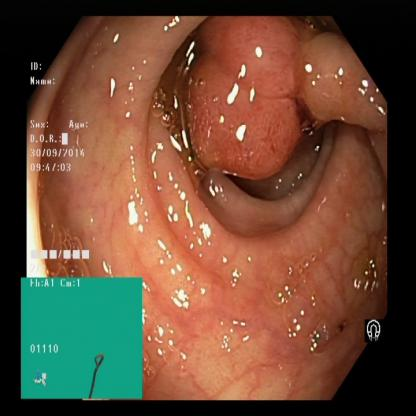Labels: (20, 275, 143, 399), (28, 60, 96, 278), (362, 315, 386, 350)
Polyps: (197, 22, 297, 162), (304, 37, 384, 143)
